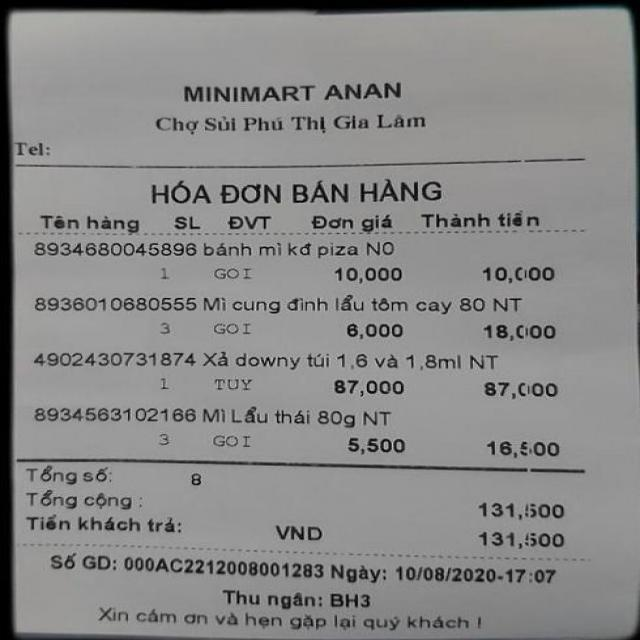Date: (392, 559, 500, 588)
Store_Name: (169, 72, 421, 108)
amount_number: (465, 496, 566, 524)
label_total: (17, 488, 138, 512)
